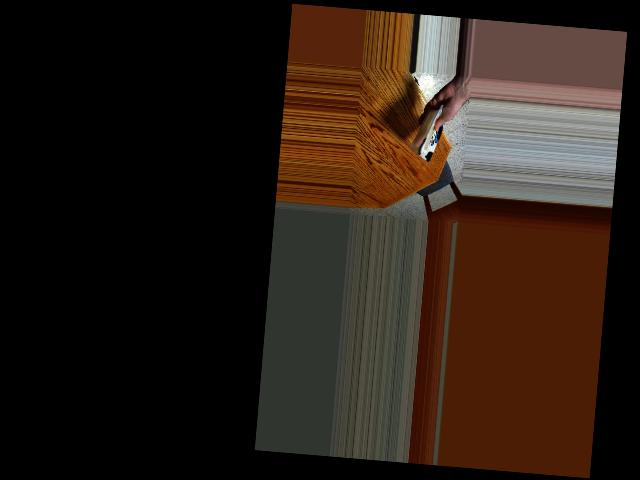cheese: (407, 107, 454, 161)
